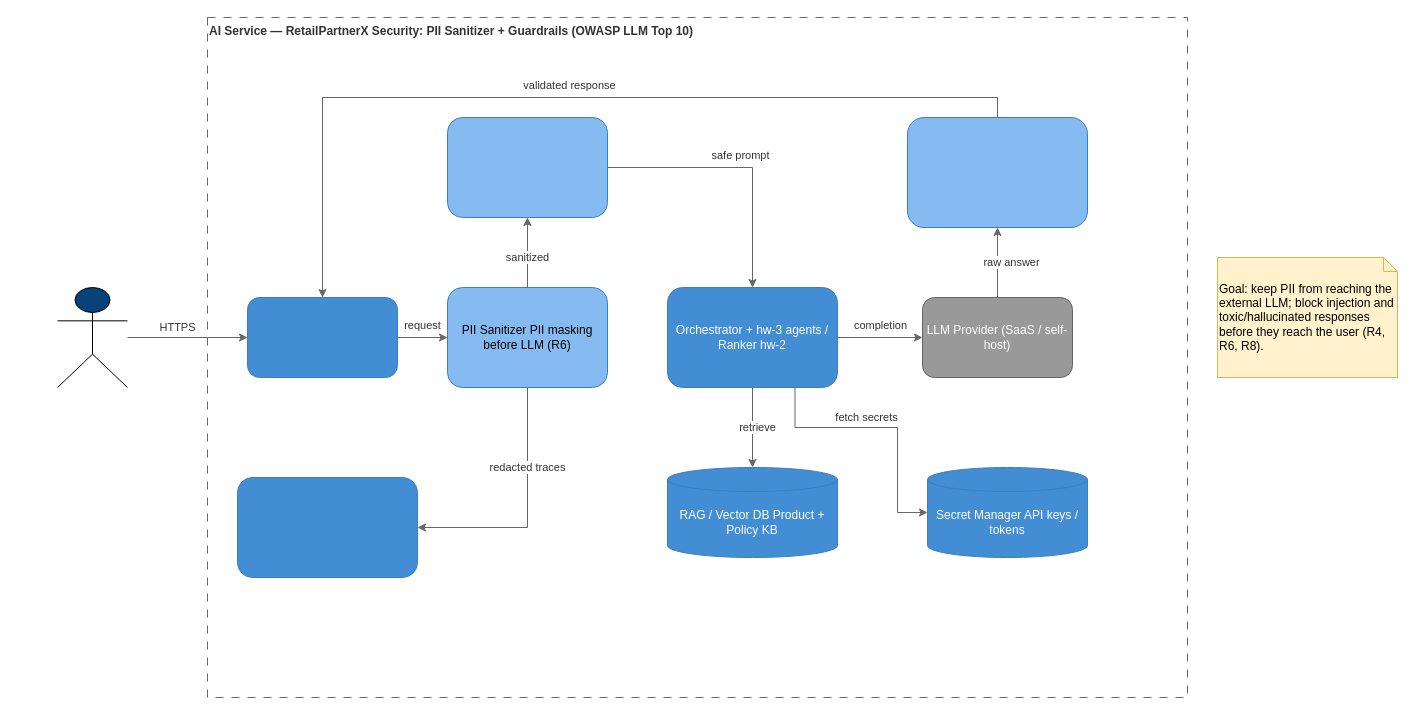
The diagram is 1415 pixels wide and 715 high, and some of its shapes have lost their labels. Here are the shapes that lost their labels. From the top down, the centre of each, then its label:
the point at 527,167: Input Guard Prompt Injection filter (OWASP)
the point at 997,172: Output Guardrails response validation citations / blocklist (R4,R8)
the point at 322,337: API Gateway AuthN / rate limit
the point at 327,527: Observability Langfuse + Prometheus (no raw PII in logs)
